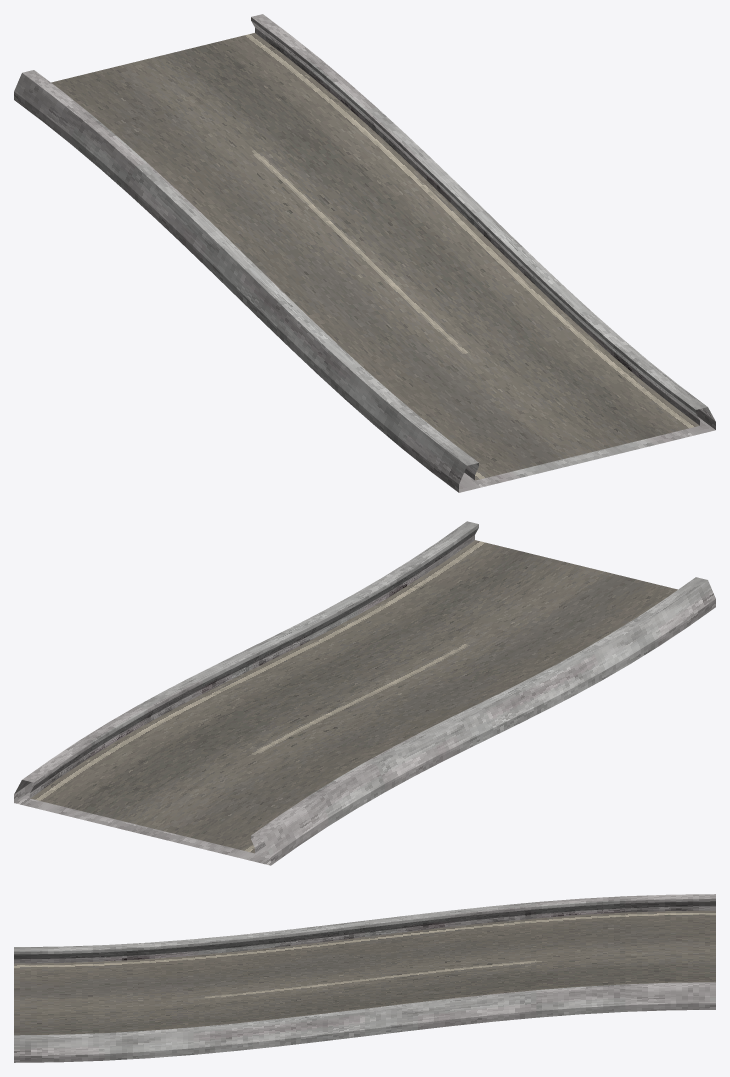
Rendered from road-Straight-Flat-Flat-Up1-Center-Size3.glb.
3 views of the same model, one above another, from view 1: azimuth 30°, elevation 25°; view 2: azimuth 150°, elevation 25°; view 3: azimuth 270°, elevation 25° (orthographic). The views are drawn at different scales.
Visible parts, largest first — view 1: road-Straight-Flat-Flat-Up1-Center-Size3; view 2: road-Straight-Flat-Flat-Up1-Center-Size3; view 3: road-Straight-Flat-Flat-Up1-Center-Size3.
Boxes of the visible parts, box(x1,y1,x2,y2) form: road-Straight-Flat-Flat-Up1-Center-Size3: box(14, 14, 715, 492); road-Straight-Flat-Flat-Up1-Center-Size3: box(14, 521, 715, 865); road-Straight-Flat-Flat-Up1-Center-Size3: box(14, 894, 715, 1062).
Size of the model in its own units: 1 by 0.3438 by 3.
Materials: 2 (2 with a texture image).
